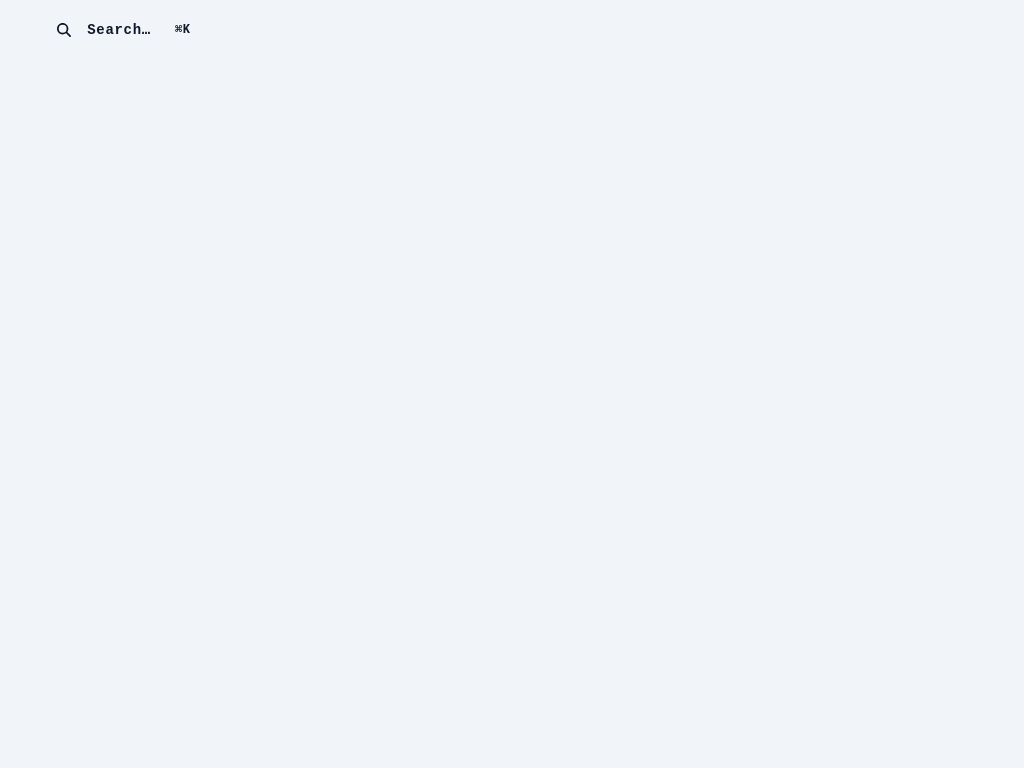
Test: CommandBar › shows no results message when search returns empty
The width and height of the screenshot is (1024, 768).
Open modal
Press k
Wait 100 ms
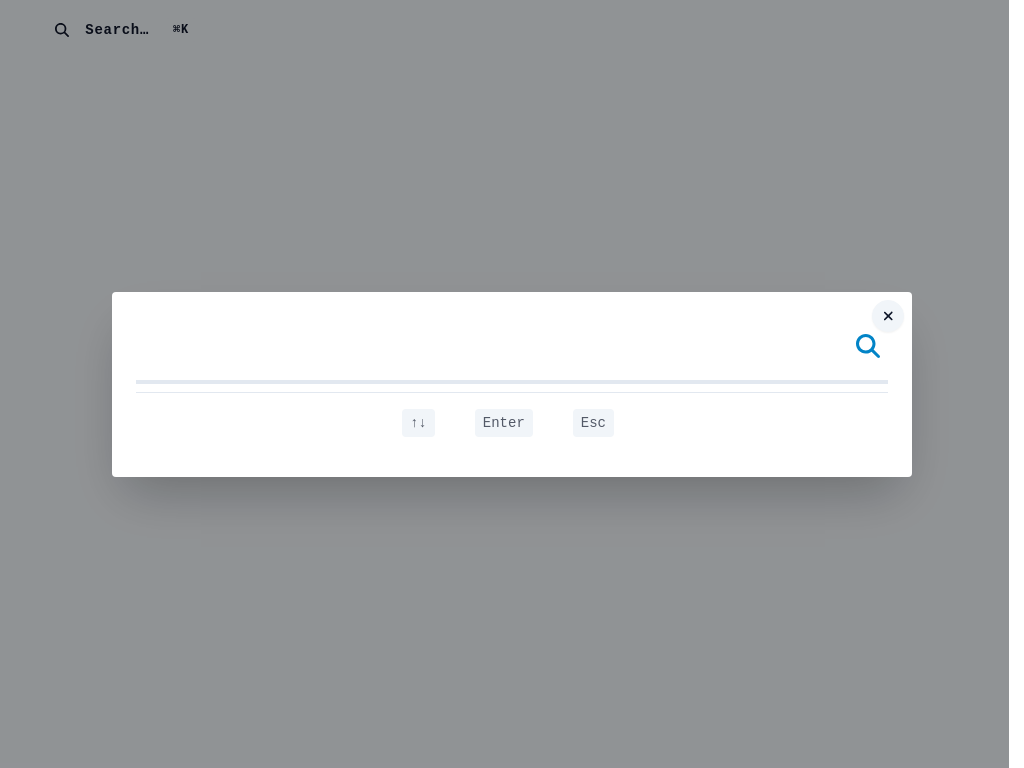
Type search query
In the field with test id "command-search-input": point(492, 348) [136,316,848,380], type "test query"
Wait 500 ms
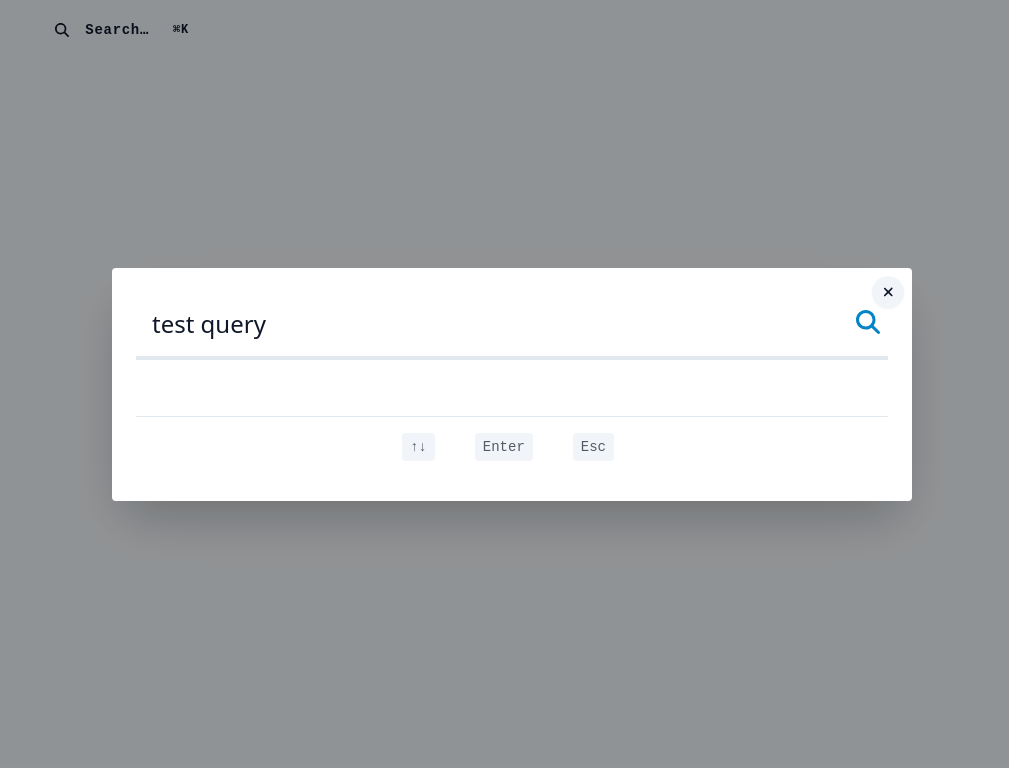
Expected: the element with test id "search-no-results" is shown, [136,360,888,408]
